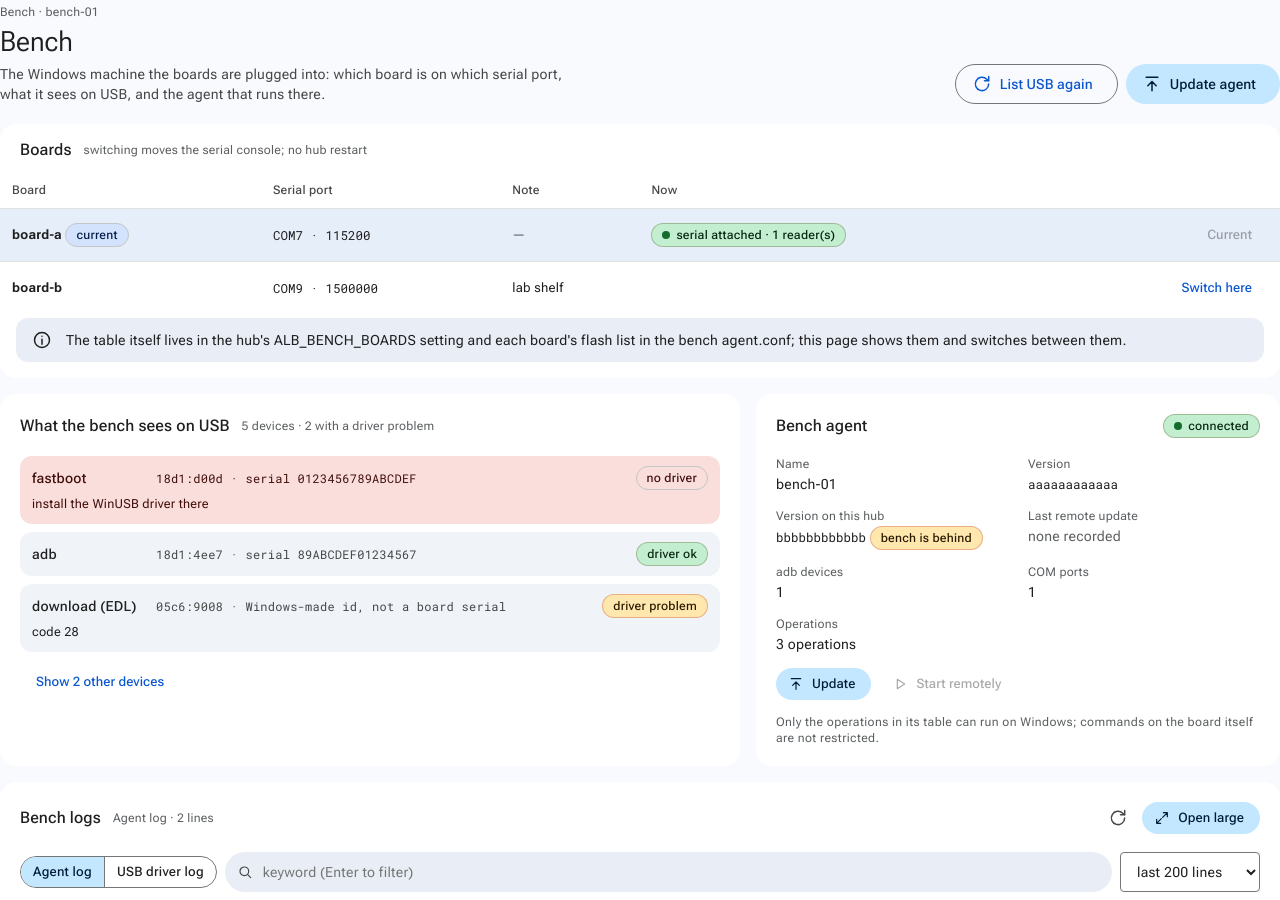
Bench page › bench logs open large: same read, numbered lines, the same controls, Esc closes
Click the button "Open large" at (1201, 818), box x1=1142 y1=802 x2=1260 y2=834
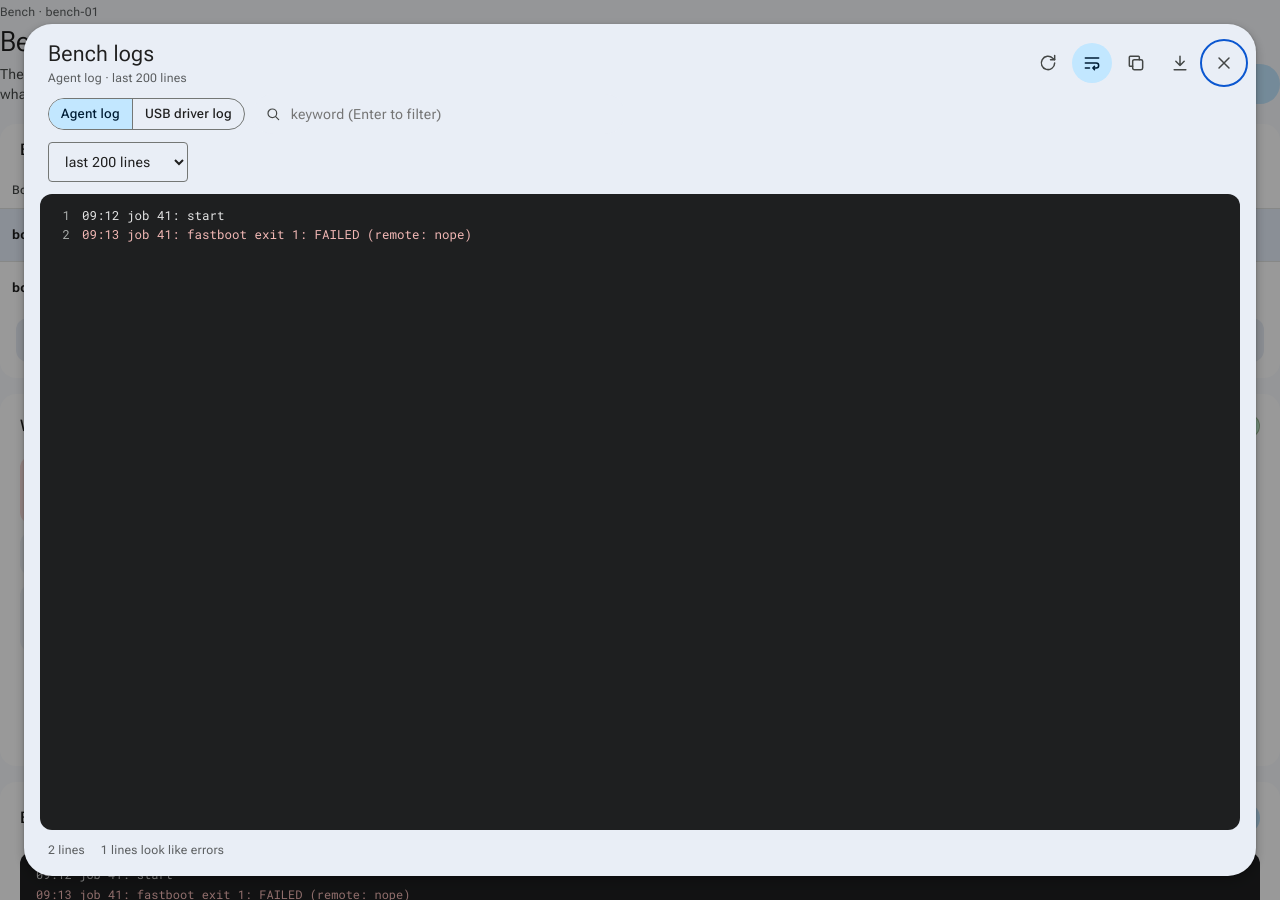
Expected: the number of fields labelled "keyword" is 1, x1=289 y1=103 x2=613 y2=125
Click the button named "Read again" at (1048, 63), box x1=1028 y1=43 x2=1068 y2=83
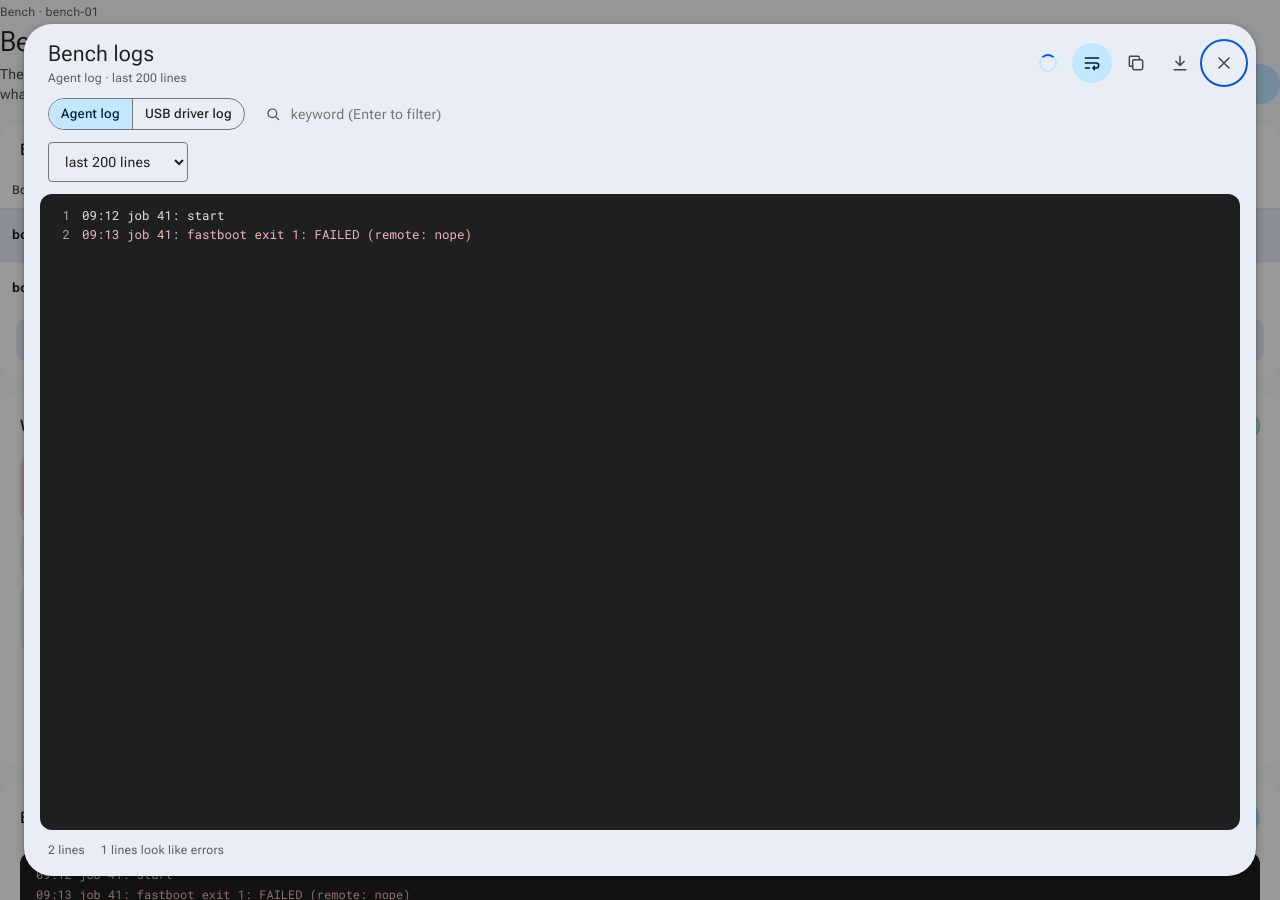
Press Escape
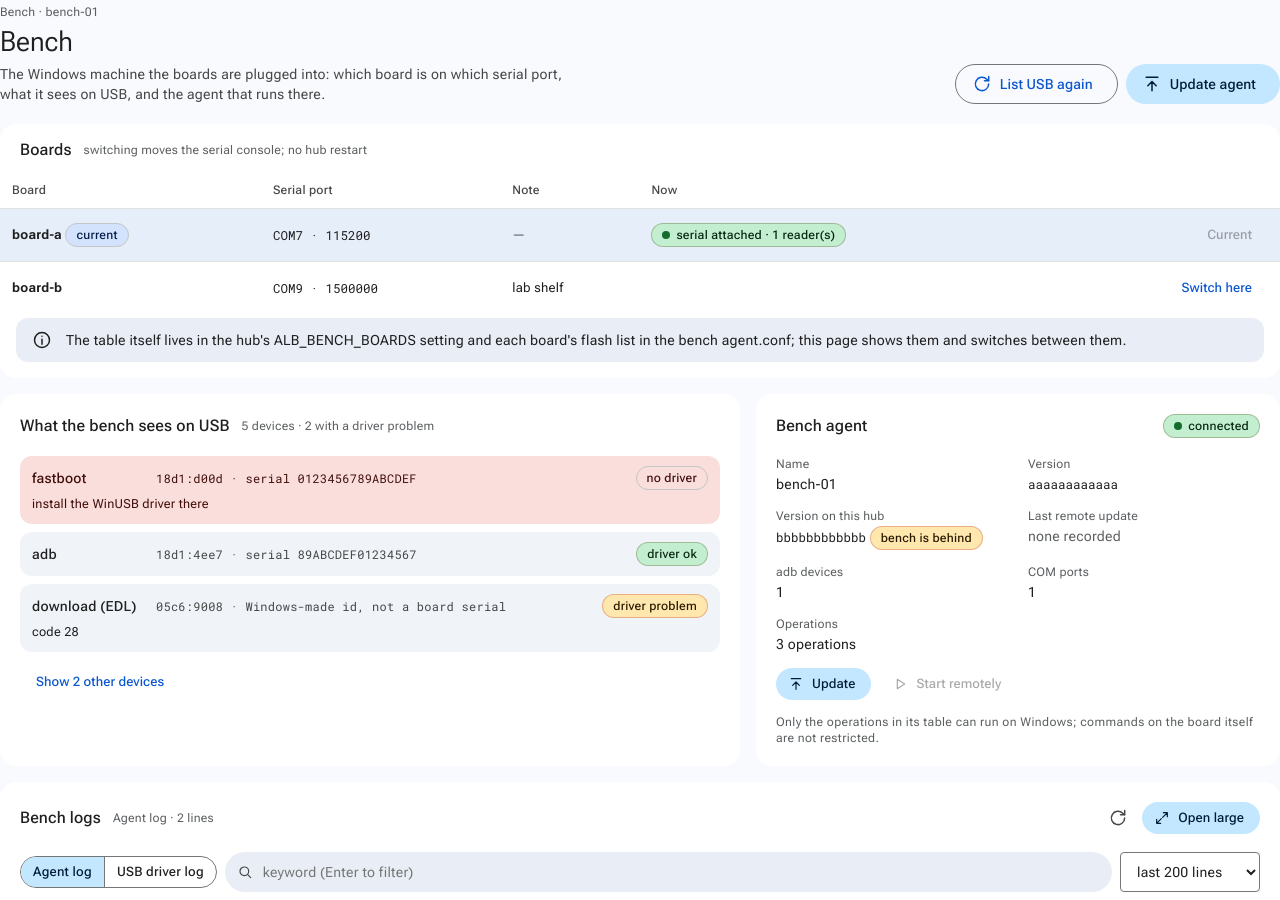
Expected: the field labelled "keyword" is shown, x1=261 y1=861 x2=1100 y2=883
Result: the dialog is gone
